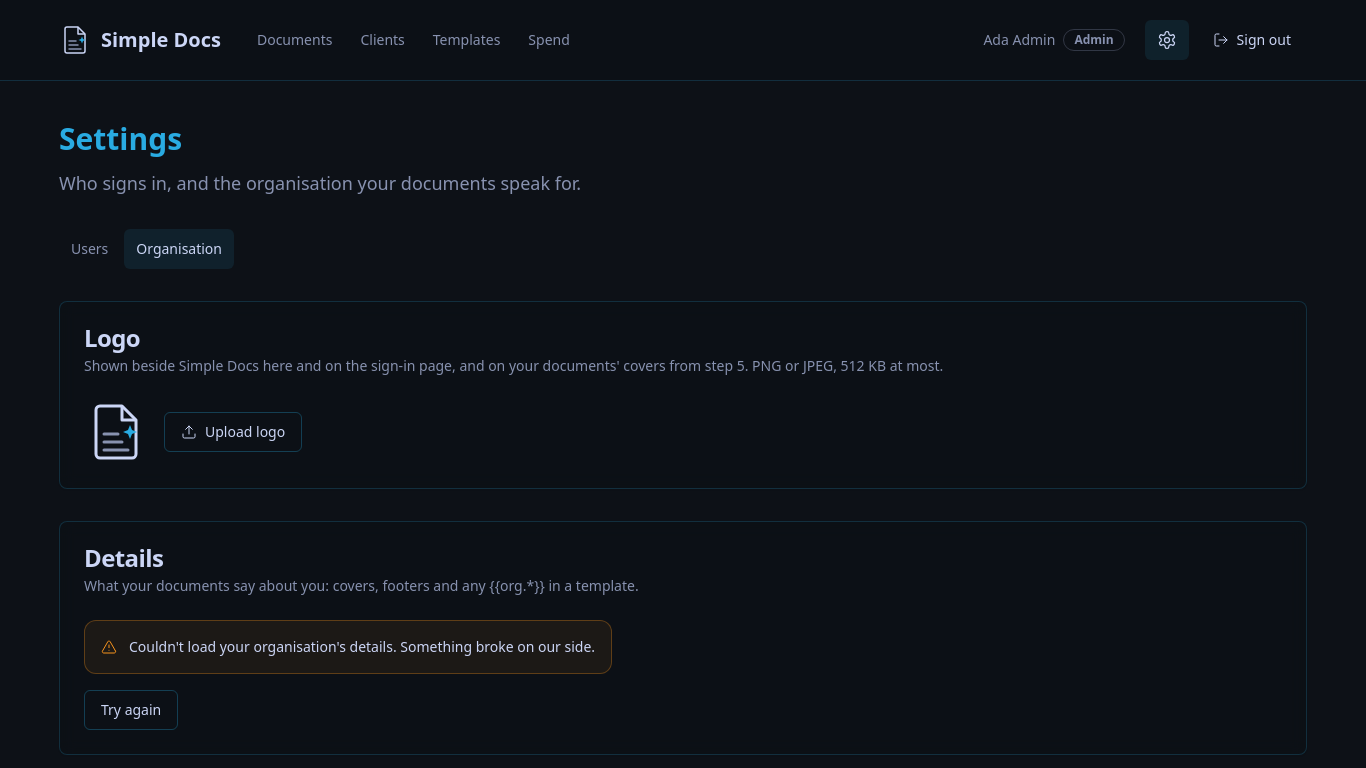
Test: Settings → Organisation › says when the details can't be loaded, and tries again
This screenshot has width=1366, height=768.
Expected: the message shows "Couldn't load your organisation's details.", [129,637,400,656]
Click the button "Try again".
click(131, 710)  # box [84,690,178,730]
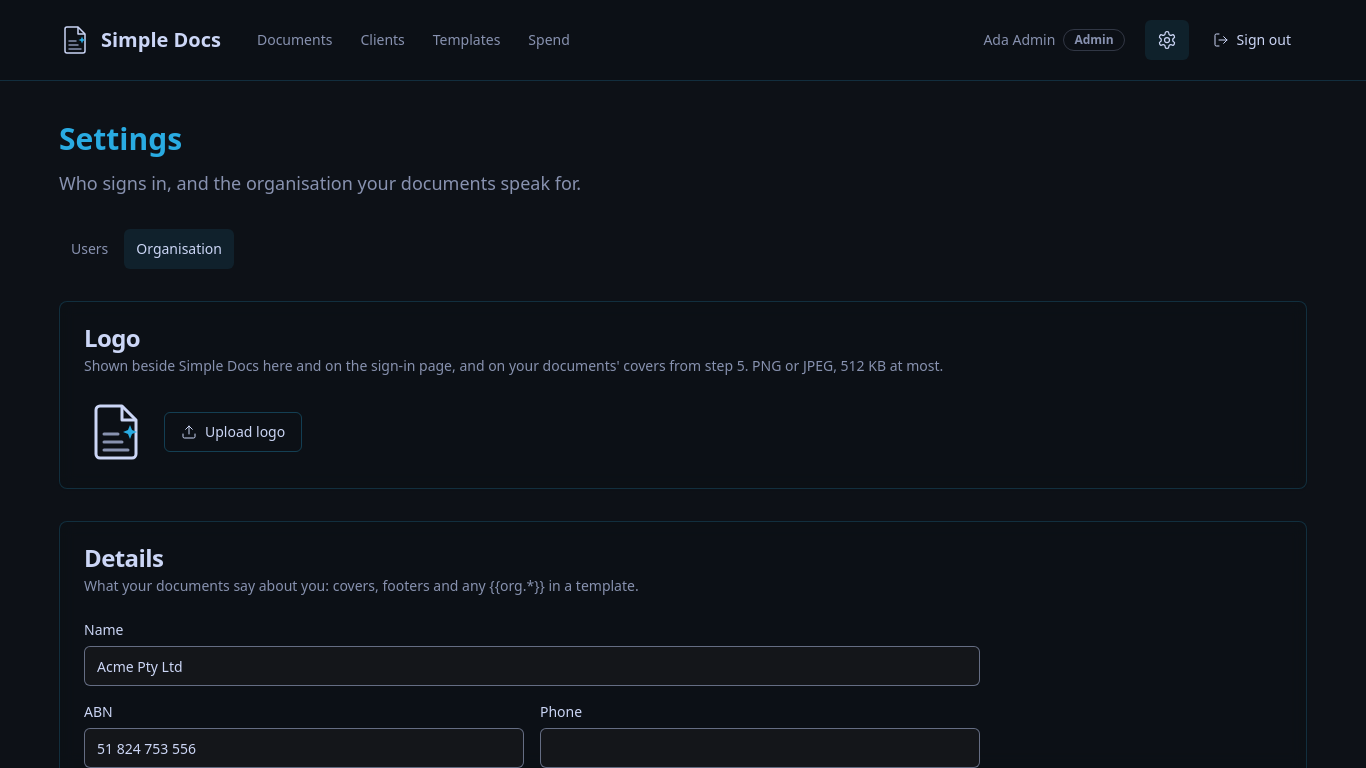
Expected: the field labelled "Name" holds "Acme Pty Ltd", [84,646,980,686]
